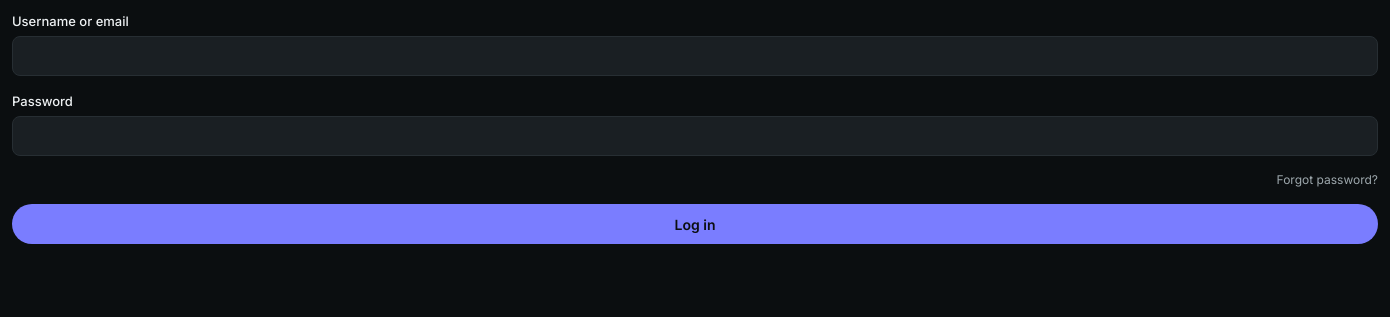
Scenario: LoginForm › shows a form-level error from the server
Type "ada" into the field labelled "Username or email". click: (695, 56)
box: x1=12 y1=36 x2=1378 y2=76
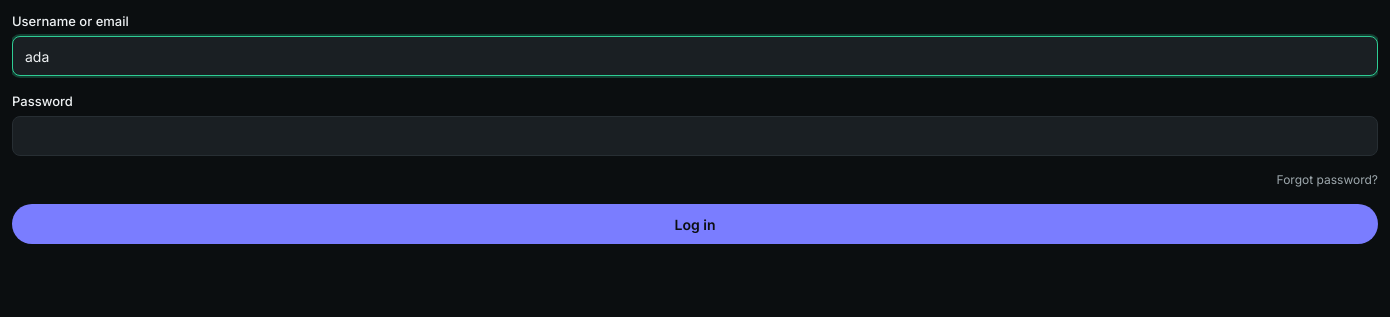
Type "wrong123" into the password field labelled "Password". click: (695, 136)
box: x1=12 y1=116 x2=1378 y2=156
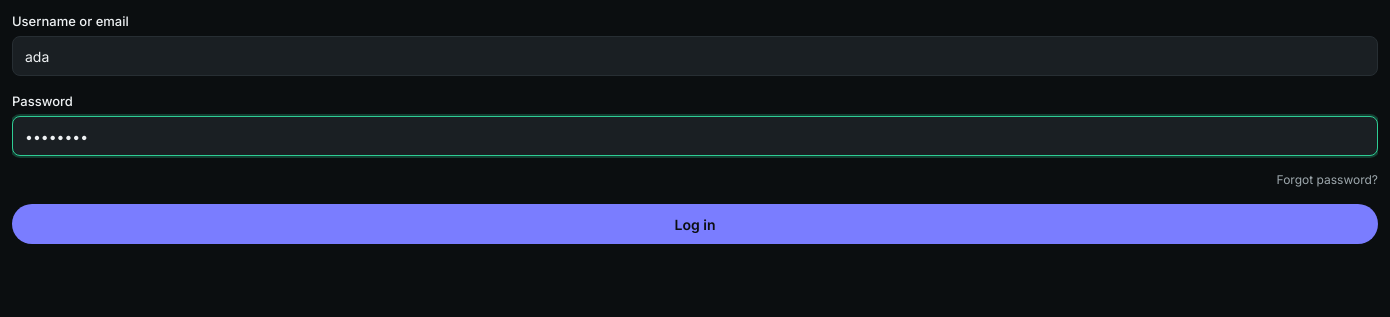
Click the button "Log in". click: (695, 224)
box: x1=12 y1=204 x2=1378 y2=244
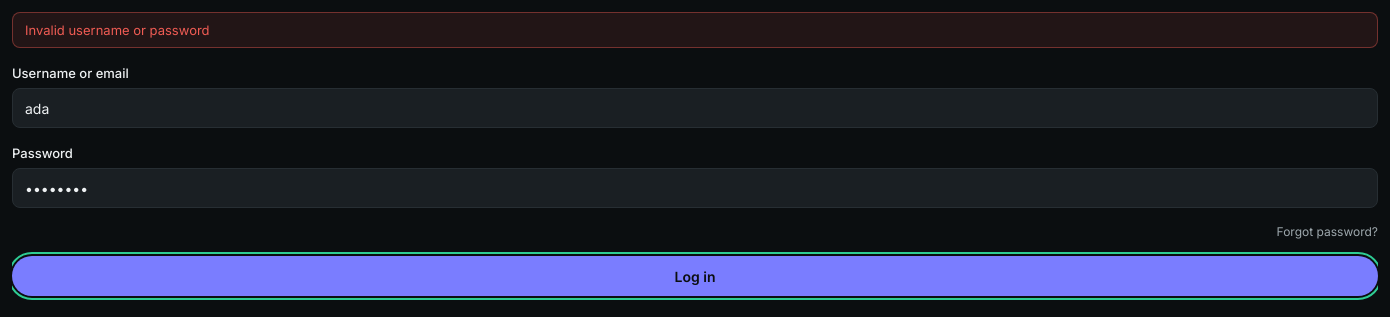
Expected: the message reads "Invalid username or password", x1=25 y1=22 x2=210 y2=38
